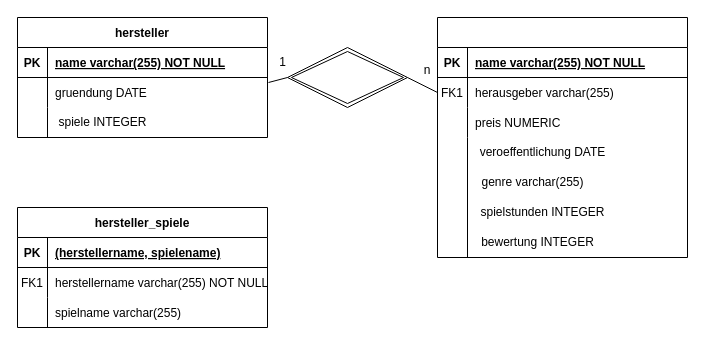
This 705x345 diagram has some shape labels left out. Each missing label, with the box of its shape:
hat developed: (286, 46, 408, 108)
spiele: (436, 16, 688, 258)
